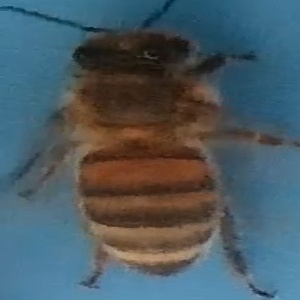bee: (2, 4, 283, 300)
